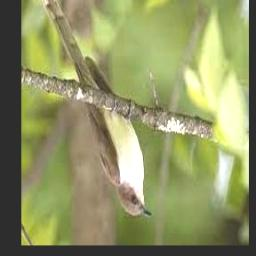Cuckoo: (40, 0, 153, 218)
